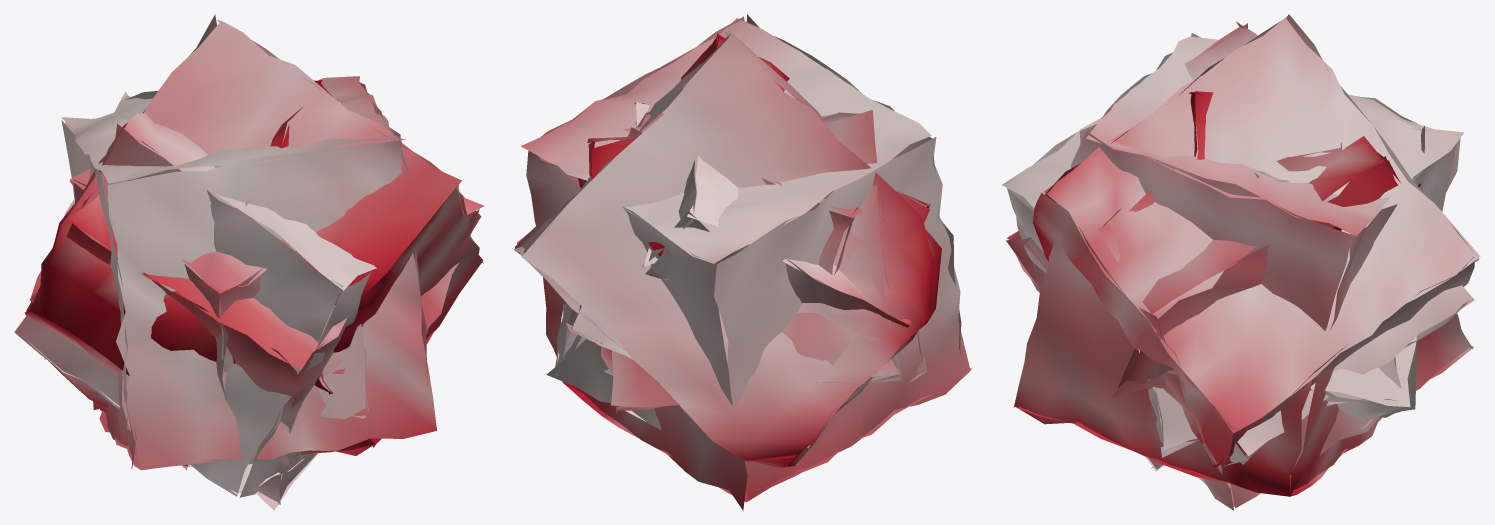
File: _pedacos_morango.glb
3 views of the same model, side by side, from view 1: azimuth 30°, elevation 25°; view 2: azimuth 150°, elevation 25°; view 3: azimuth 270°, elevation 25° (orthographic). The views are drawn at different scales.
Parts seen in each view (by area): view 1: _pedacos_morango_8, _pedacos_morango_9, _pedacos_morango_6, _pedacos_morango_3, _pedacos_morango_7, _pedacos_morango_2, _pedacos_morango_1; view 2: _pedacos_morango_9, _pedacos_morango_8, _pedacos_morango_6, _pedacos_morango_1, _pedacos_morango_7, _pedacos_morango_3; view 3: _pedacos_morango_9, _pedacos_morango_8, _pedacos_morango_6, _pedacos_morango_1, _pedacos_morango_3, _pedacos_morango_7.
Part boxes in pixels (left/top/right/bottom): _pedacos_morango_8: left=61, top=76, right=436, bottom=470; _pedacos_morango_9: left=24, top=14, right=483, bottom=407; _pedacos_morango_6: left=14, top=113, right=484, bottom=497; _pedacos_morango_3: left=44, top=192, right=346, bottom=510; _pedacos_morango_7: left=69, top=169, right=421, bottom=464; _pedacos_morango_2: left=101, top=153, right=369, bottom=431; _pedacos_morango_1: left=30, top=80, right=459, bottom=470; _pedacos_morango_9: left=513, top=30, right=941, bottom=467; _pedacos_morango_8: left=521, top=14, right=971, bottom=510; _pedacos_morango_6: left=587, top=110, right=901, bottom=413; _pedacos_morango_1: left=546, top=33, right=911, bottom=430; _pedacos_morango_7: left=563, top=112, right=863, bottom=374; _pedacos_morango_3: left=566, top=190, right=930, bottom=448; _pedacos_morango_9: left=1032, top=14, right=1480, bottom=467; _pedacos_morango_8: left=1013, top=33, right=1464, bottom=496; _pedacos_morango_6: left=1001, top=21, right=1473, bottom=510; _pedacos_morango_1: left=1110, top=91, right=1426, bottom=419; _pedacos_morango_3: left=1006, top=190, right=1474, bottom=471; _pedacos_morango_7: left=1138, top=142, right=1401, bottom=457.
Size of the model in its own units: 0.2092 by 0.2072 by 0.1963.
